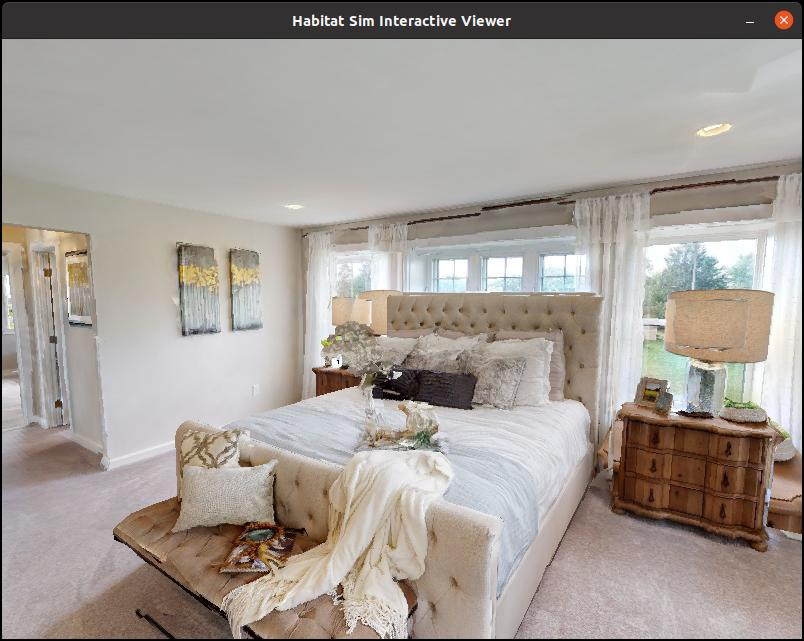bed: (171, 279, 618, 641)
door-frame: (0, 230, 110, 463)
